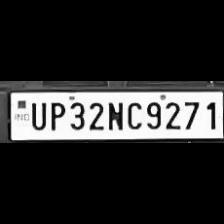1: (201, 99, 219, 130)
2: (86, 99, 104, 131), (162, 99, 180, 131)
3: (66, 99, 84, 131)
7: (180, 99, 198, 131)
9: (142, 98, 162, 130)
C: (124, 99, 142, 131)
N: (104, 99, 124, 131)
P: (46, 98, 64, 132)
U: (27, 99, 46, 131)
